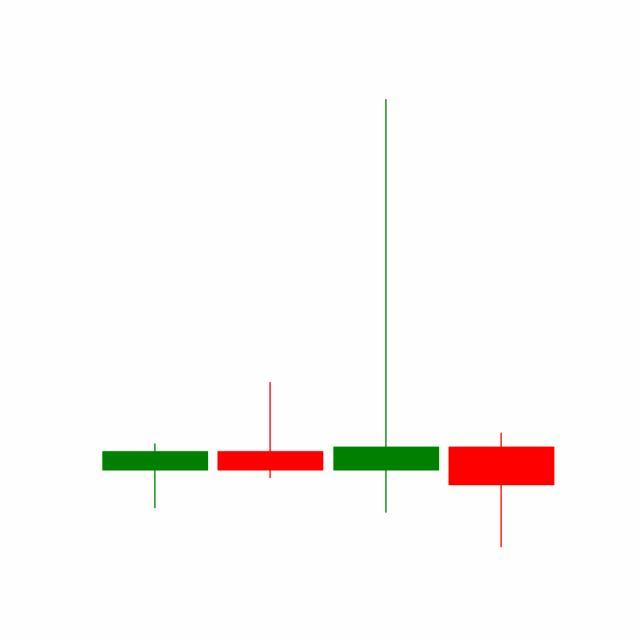Spinning Top: (329, 95, 445, 518)
